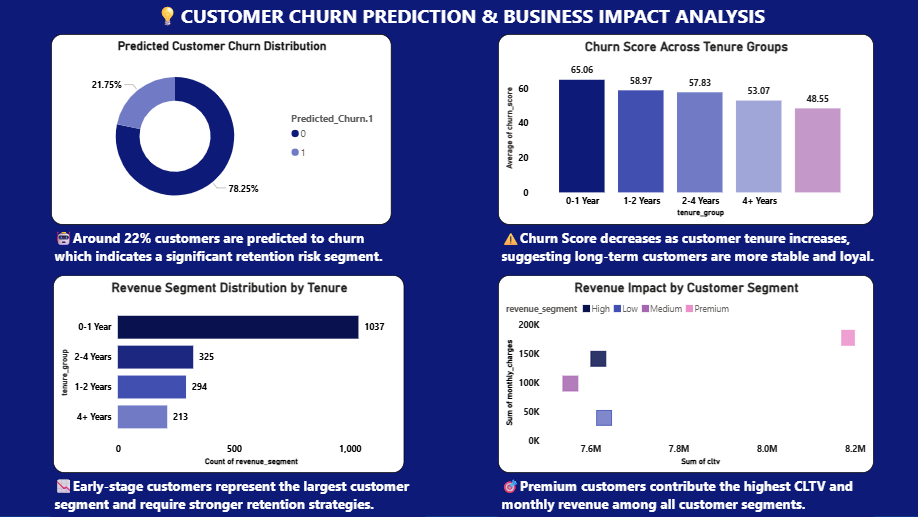

This screenshot's page, from the dashboard's own definition file:
{"tool":"powerbi","page":{"name":"Page 4","canvas":[1280,720],"ordinal":3},"visuals":[{"type":"shape","box":[0,0,1280,720],"z":0},{"type":"textbox","box":[0,0,1280,65],"z":1000},{"type":"donutChart","title":"Predicted Customer Churn Distribution","fields":{"Category":["customer_churn_final_dashboard.Predicted_Churn.1"],"Y":["CountNonNull(customer_churn_final_dashboard.customerid)"]},"box":[71.7,48.3,473.3,265],"z":2000},{"type":"columnChart","title":"Churn Score  Across Tenure  Groups","fields":{"Category":["customer_churn_final_dashboard.tenure_group"],"Y":["Avg(customer_churn_final_dashboard.churn_score)"]},"box":[693.3,48.3,521.7,265],"z":3000},{"type":"scatterChart","title":"Revenue Impact by Customer Segment","fields":{"X":["Sum(customer_churn_final_dashboard.cltv)"],"Y":["Sum(customer_churn_final_dashboard.monthly_charges)"],"Series":["customer_churn_final_dashboard.revenue_segment"]},"box":[693.3,383.3,521.7,275],"z":4000},{"type":"barChart","title":"Revenue Segment Distribution by Tenure","fields":{"Y":["CountNonNull(customer_churn_final_dashboard.revenue_segment)"],"Category":["customer_churn_final_dashboard.tenure_group"]},"box":[75,383.3,488.3,275],"z":5000},{"type":"textbox","box":[71.7,313.3,491.7,70],"z":6000},{"type":"textbox","box":[693.3,313.3,538.3,70],"z":7000},{"type":"textbox","box":[71.7,658.3,520,61.7],"z":8000},{"type":"textbox","box":[693.3,658.3,521.7,61.7],"z":9000}]}

Visuals, with their boxes in screenshot pixels (x1, y1, x2, y2), scaled from the page's 1280x720 canvas onto the 918x517 screenshot:
shape: <region>0, 0, 917, 516</region>
textbox: <region>0, 0, 917, 47</region>
"Predicted Customer Churn Distribution" donutChart: <region>51, 35, 391, 225</region>
"Churn Score  Across Tenure  Groups" columnChart: <region>497, 35, 871, 225</region>
"Revenue Impact by Customer Segment" scatterChart: <region>497, 275, 871, 473</region>
"Revenue Segment Distribution by Tenure" barChart: <region>54, 275, 404, 473</region>
textbox: <region>51, 225, 404, 275</region>
textbox: <region>497, 225, 883, 275</region>
textbox: <region>51, 473, 424, 516</region>
textbox: <region>497, 473, 871, 516</region>
